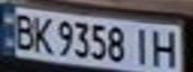3: (69, 19, 90, 60)
5: (87, 21, 109, 62)
8: (106, 24, 130, 64)
9: (51, 17, 75, 57)
B: (9, 10, 39, 52)
H: (148, 26, 184, 70)
I: (127, 26, 157, 66)
K: (30, 12, 57, 55)
